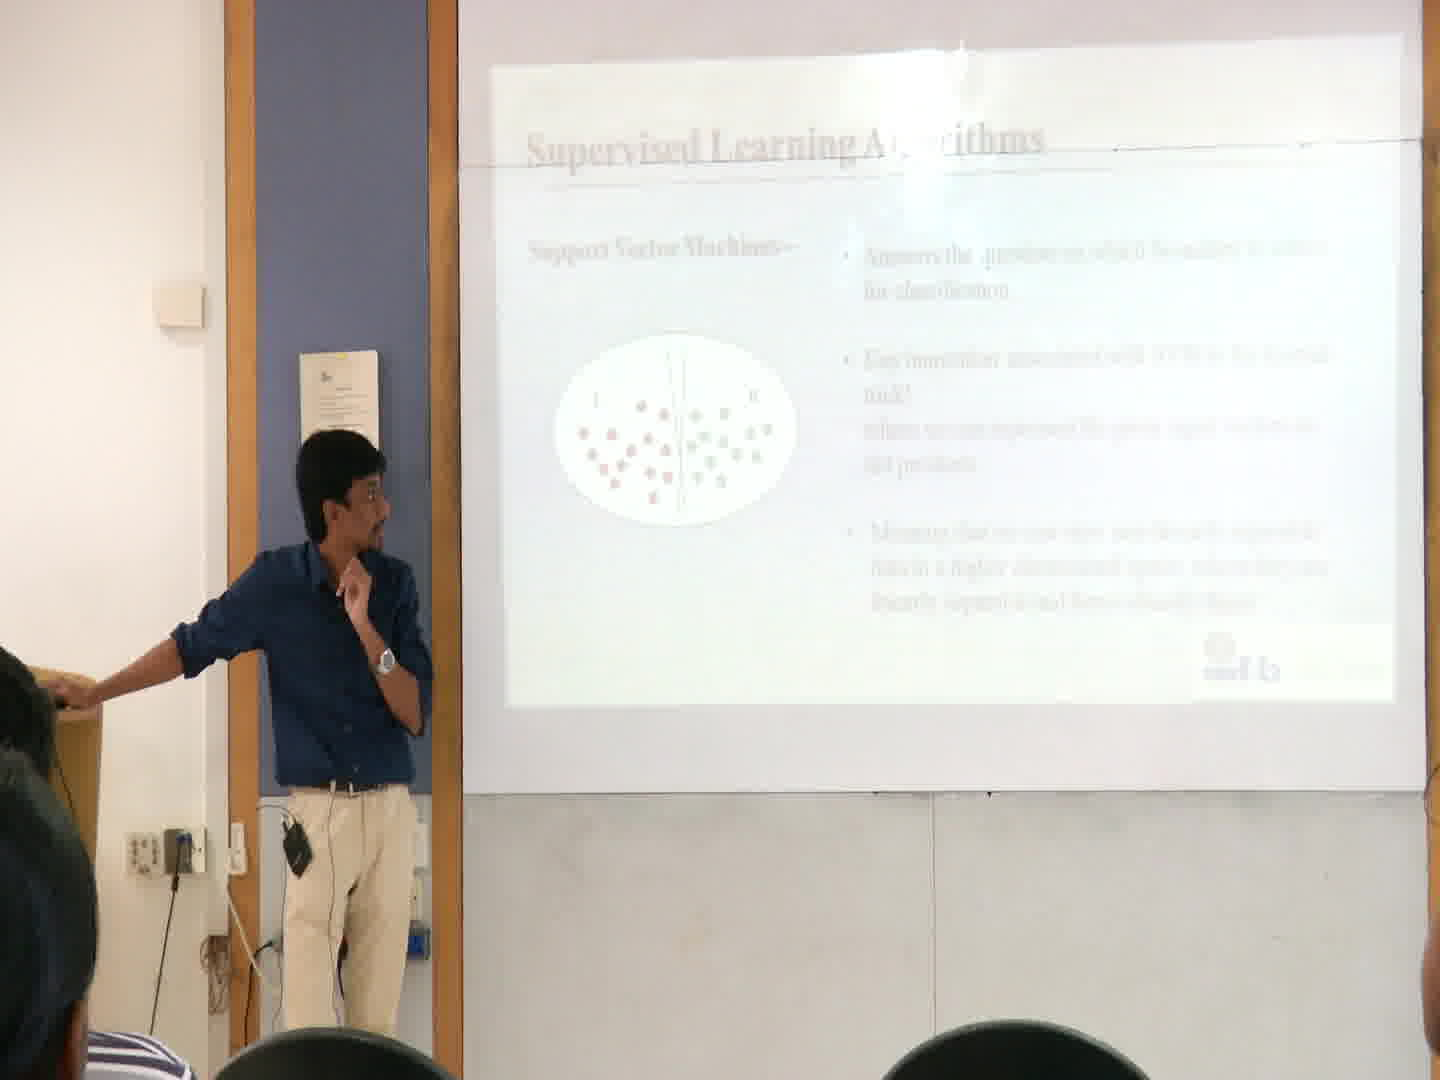slide: (490, 32, 1401, 710)
